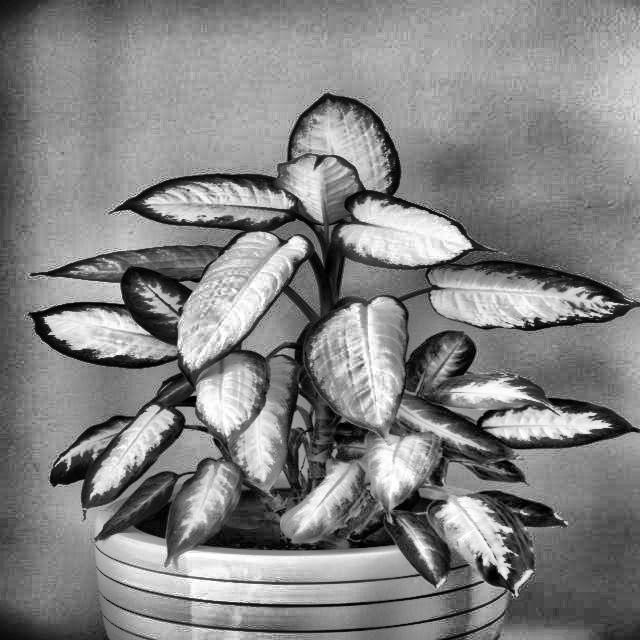plants: (30, 86, 632, 598)
